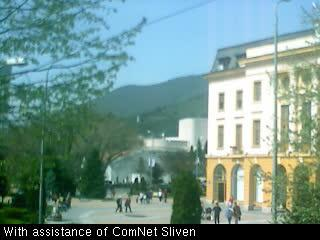person: (213, 203, 222, 224), (233, 201, 241, 224), (227, 201, 233, 224), (116, 195, 122, 214), (66, 191, 72, 209), (205, 206, 212, 221), (125, 196, 131, 213), (199, 201, 204, 220), (47, 191, 52, 207), (147, 191, 153, 204), (139, 191, 144, 205), (158, 188, 163, 202), (163, 190, 168, 203), (52, 194, 56, 207), (112, 188, 116, 200), (135, 192, 139, 203), (144, 191, 147, 204)
